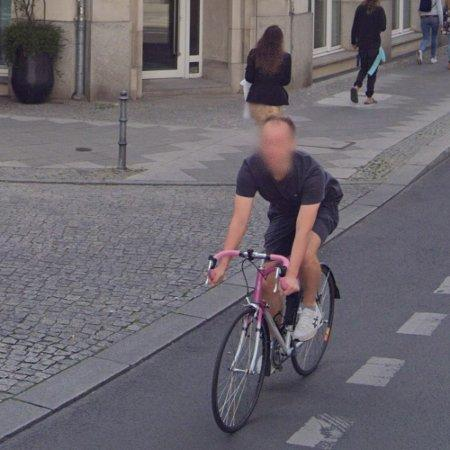bicycles: (210, 250, 340, 433)
